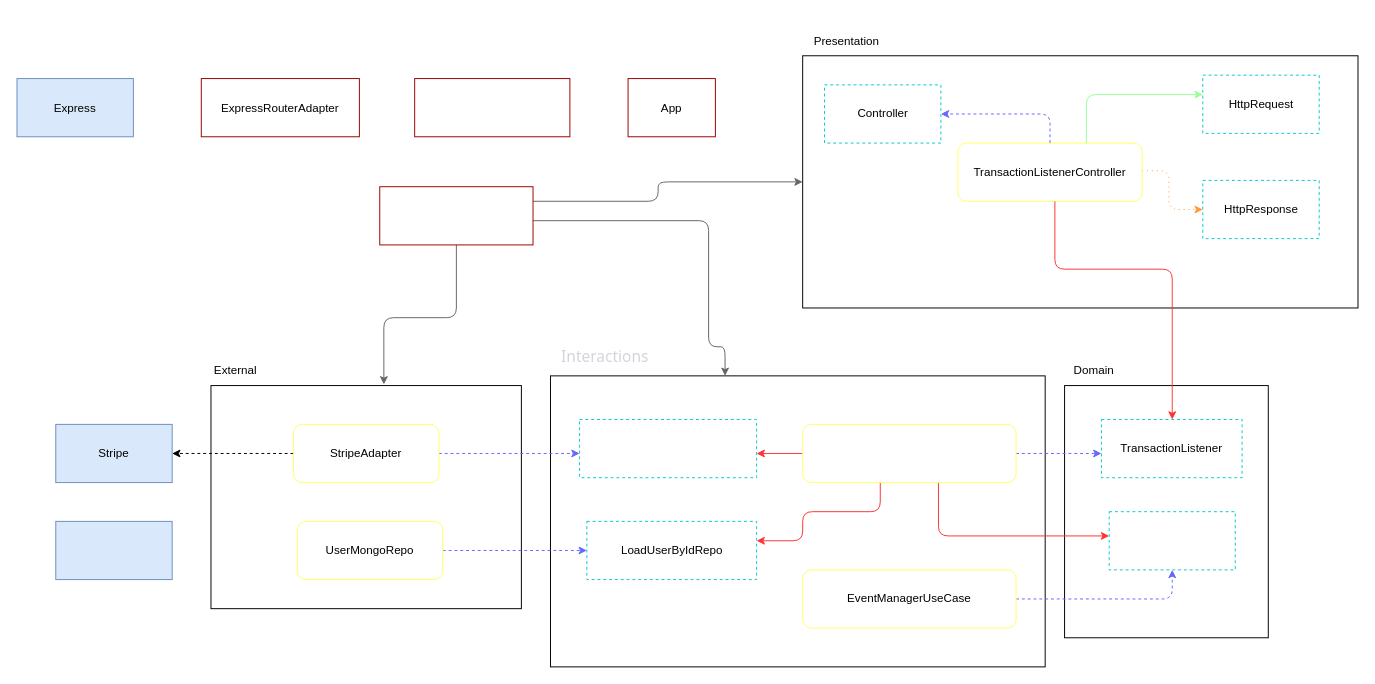
Some shapes in this 1375 by 684 pixel diagram are drawn without their labels. The shapes that lost their labels are listed below. From the top down, each one's centre as x and y in pixels, then its label:
point 492,107: CheckoutRouter
point 456,215: CheckoutFactory
point 668,448: TransactionListenerGateway
point 909,453: TransactionListenerUseCase
point 113,550: MongoDb
point 1171,540: EventManager
